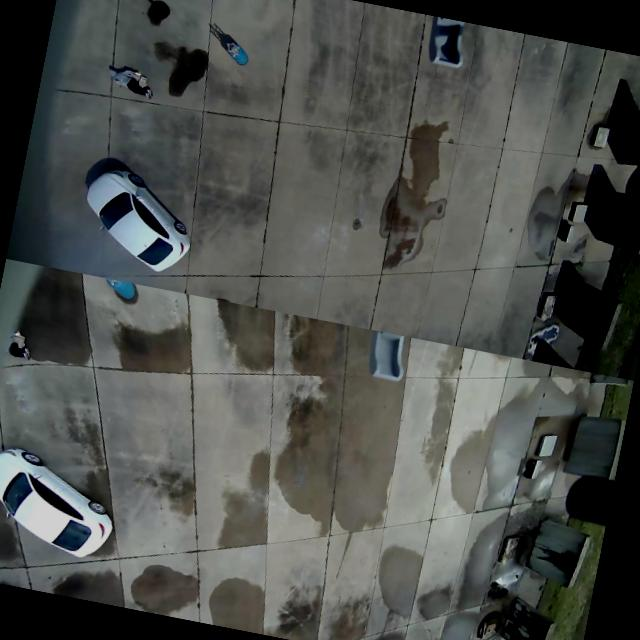car: (58, 143, 218, 284), (0, 437, 138, 569)
